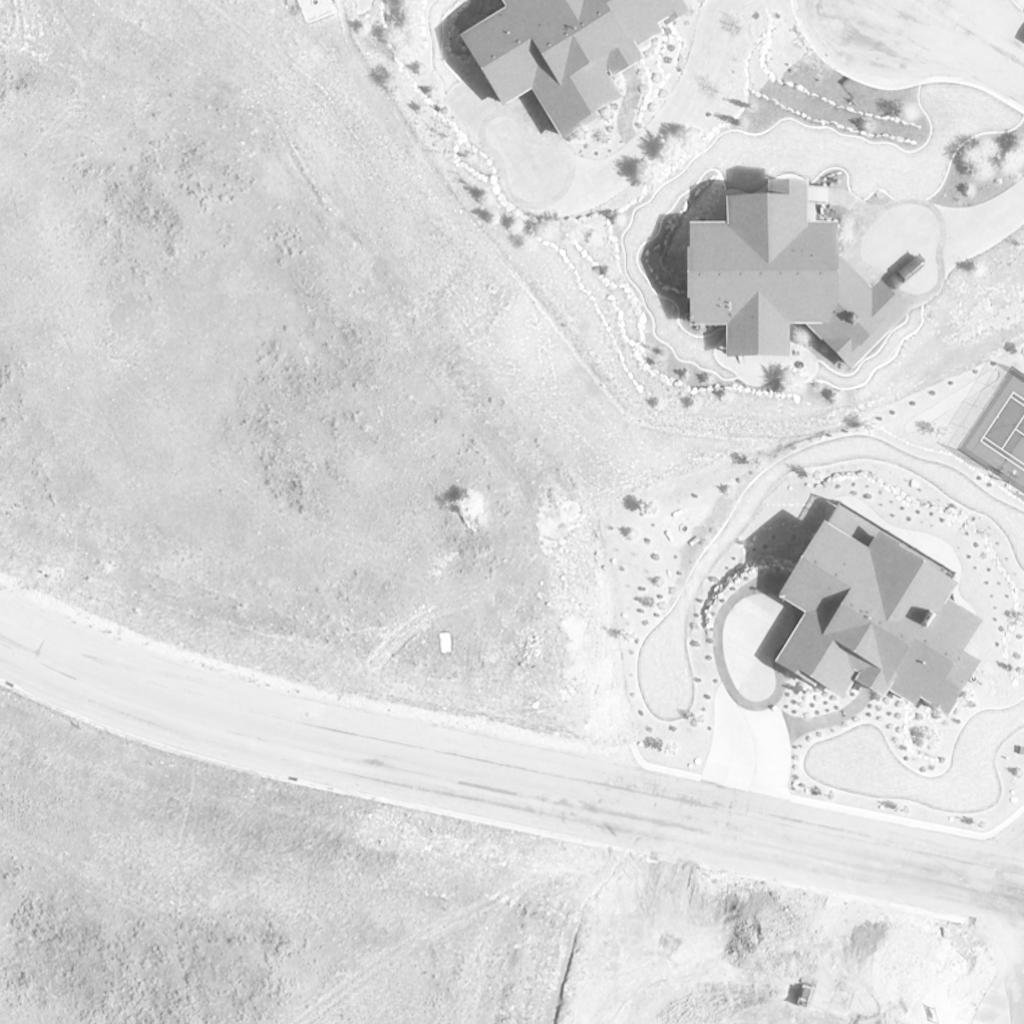vehicle: (887, 257, 925, 291)
